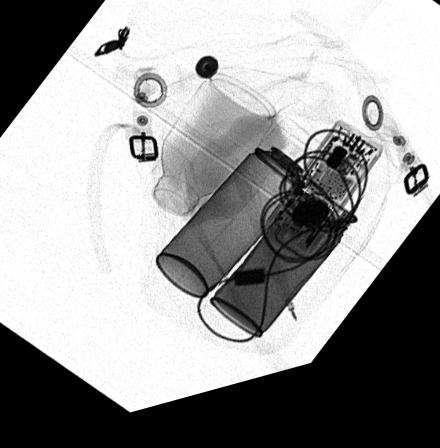Sprayer: (154, 132, 332, 310)
